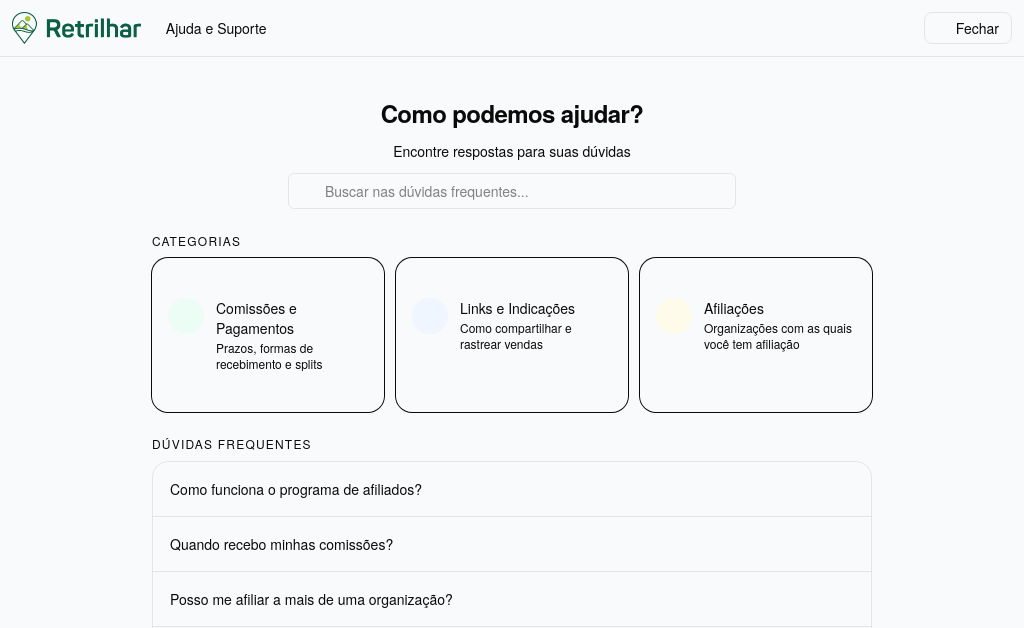
Test case: AjudaPage › uses afiliação terminology in FAQ answers
The width and height of the screenshot is (1024, 628).
Type "múltiplas organizações" into the search field labelled "Buscar nas dúvidas frequentes" at (512, 191), box [288,173,736,209]
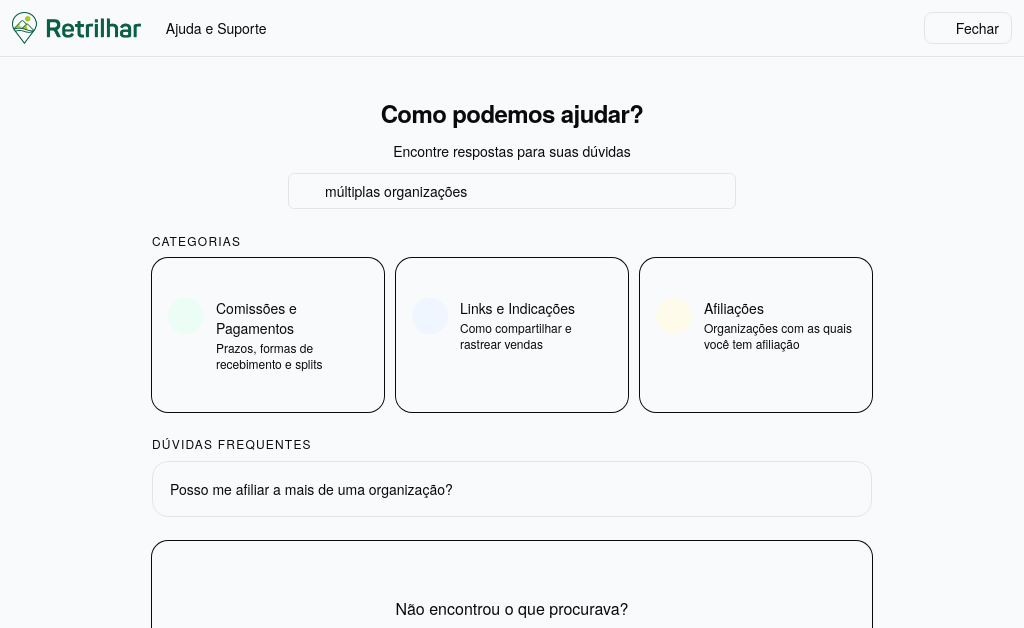
Click the button "Posso me afiliar a mais de uma organização?" at (311, 489), box [153,462,871,516]
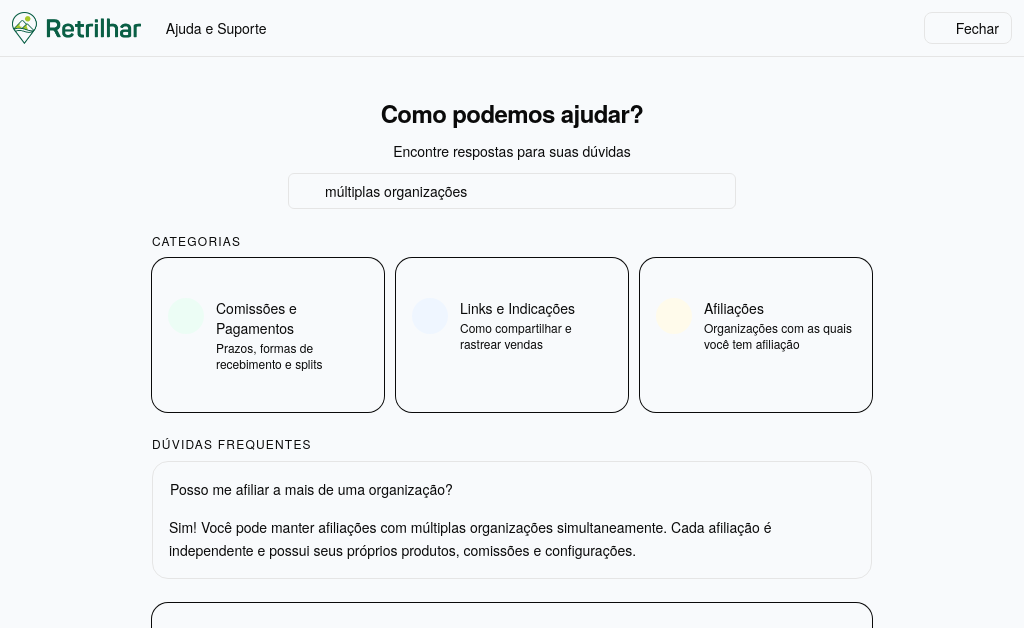
Now the text "manter afiliações com múltiplas organizações" is shown, box [169,517,772,560]
